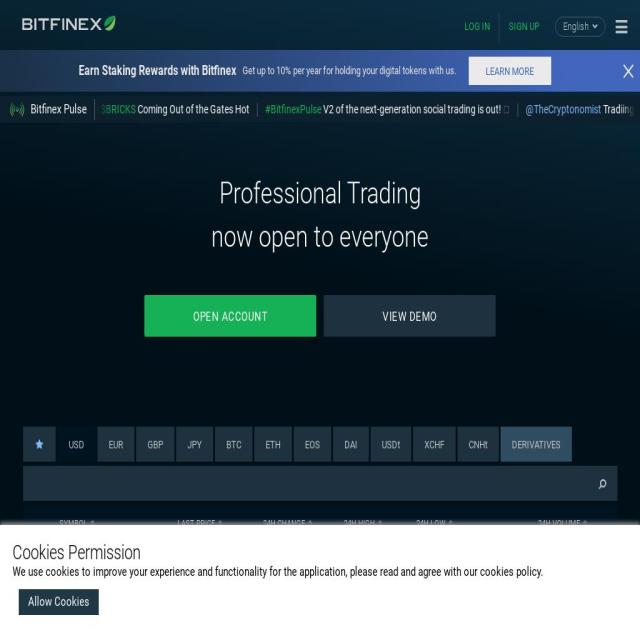button: (144, 295, 316, 337), (324, 295, 496, 337), (6, 13, 116, 49), (484, 57, 567, 85), (19, 589, 99, 615), (446, 14, 496, 44), (498, 14, 546, 44), (10, 100, 87, 118), (555, 16, 606, 36)
field: (33, 472, 596, 496)
heading: (12, 542, 628, 563), (211, 219, 429, 255), (219, 176, 421, 212), (152, 63, 472, 79)
image: (21, 11, 116, 36), (56, 54, 124, 88), (34, 428, 45, 461), (10, 102, 24, 116), (623, 64, 634, 78), (596, 544, 603, 554), (596, 594, 603, 604), (596, 570, 603, 578), (596, 620, 603, 628)
link: (519, 102, 640, 116), (460, 102, 518, 116), (202, 102, 240, 116), (36, 102, 58, 116)
text: (13, 565, 543, 579), (500, 427, 572, 462), (413, 427, 456, 462), (458, 427, 500, 462), (371, 427, 412, 462), (225, 541, 313, 557), (225, 566, 313, 582), (225, 591, 313, 607), (225, 616, 313, 632), (136, 427, 175, 462), (58, 427, 96, 462), (97, 427, 135, 462), (176, 427, 214, 462), (215, 427, 253, 462), (294, 427, 332, 462), (140, 541, 222, 557), (140, 566, 222, 582), (140, 591, 222, 607), (140, 616, 222, 632), (255, 427, 292, 462), (333, 427, 369, 462), (59, 541, 137, 557), (59, 566, 137, 582), (59, 591, 137, 607), (59, 616, 137, 632), (263, 511, 305, 537), (538, 511, 580, 537), (315, 541, 383, 557), (315, 566, 383, 582), (315, 591, 383, 607), (315, 616, 383, 632), (386, 541, 453, 557), (386, 566, 453, 582), (386, 591, 453, 607), (386, 616, 453, 632), (31, 100, 87, 118), (177, 511, 215, 537), (344, 511, 375, 537), (58, 511, 88, 537), (416, 511, 446, 537), (526, 542, 570, 556), (531, 567, 570, 581), (241, 102, 278, 116), (296, 102, 332, 116), (88, 102, 123, 116), (535, 592, 570, 606), (535, 617, 570, 631), (333, 102, 364, 116), (59, 102, 87, 116), (563, 20, 591, 32), (406, 102, 430, 116), (166, 102, 188, 116), (124, 102, 145, 116), (146, 102, 165, 116), (279, 102, 295, 116), (430, 102, 446, 116), (572, 542, 588, 556), (572, 567, 588, 581), (572, 592, 588, 606), (572, 617, 588, 631), (365, 102, 380, 116), (392, 102, 404, 116), (381, 102, 390, 116)
